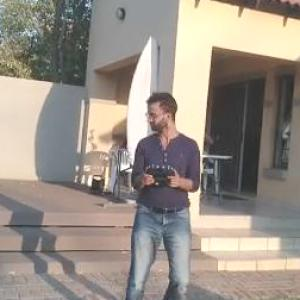follow: (121, 86, 205, 299)
